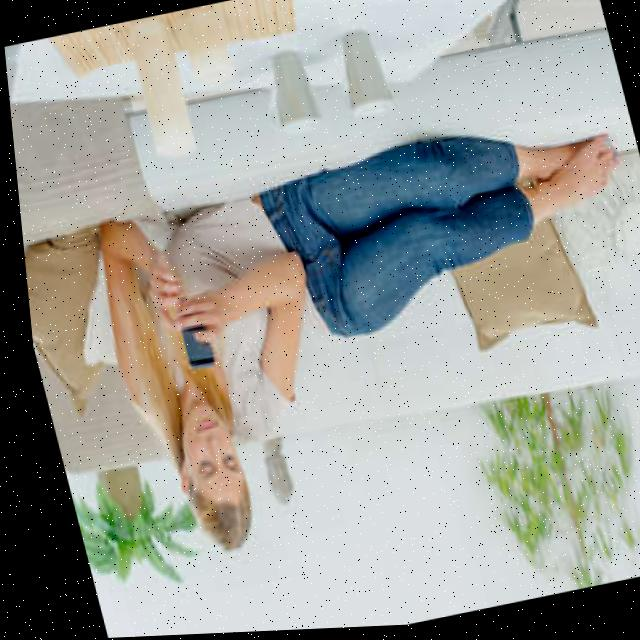smartphone-person: (51, 74, 640, 584)
